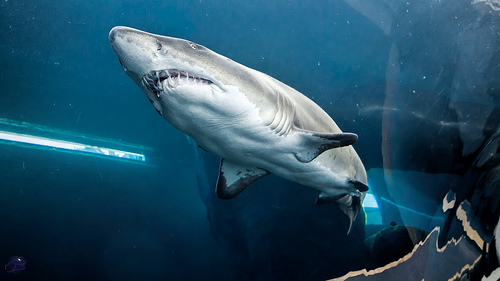shark: (88, 12, 394, 244)
